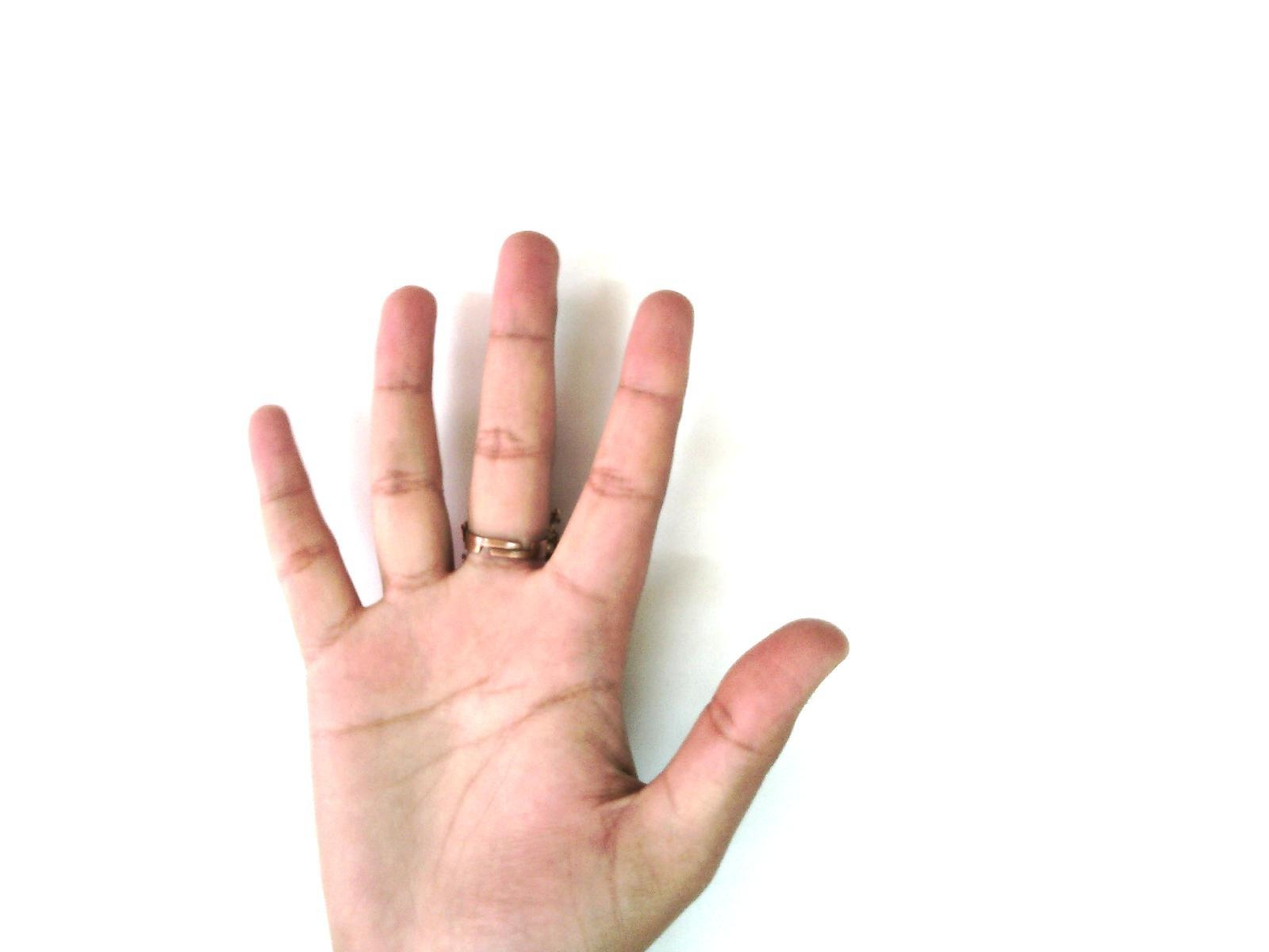open_palm: (245, 229, 852, 951)
